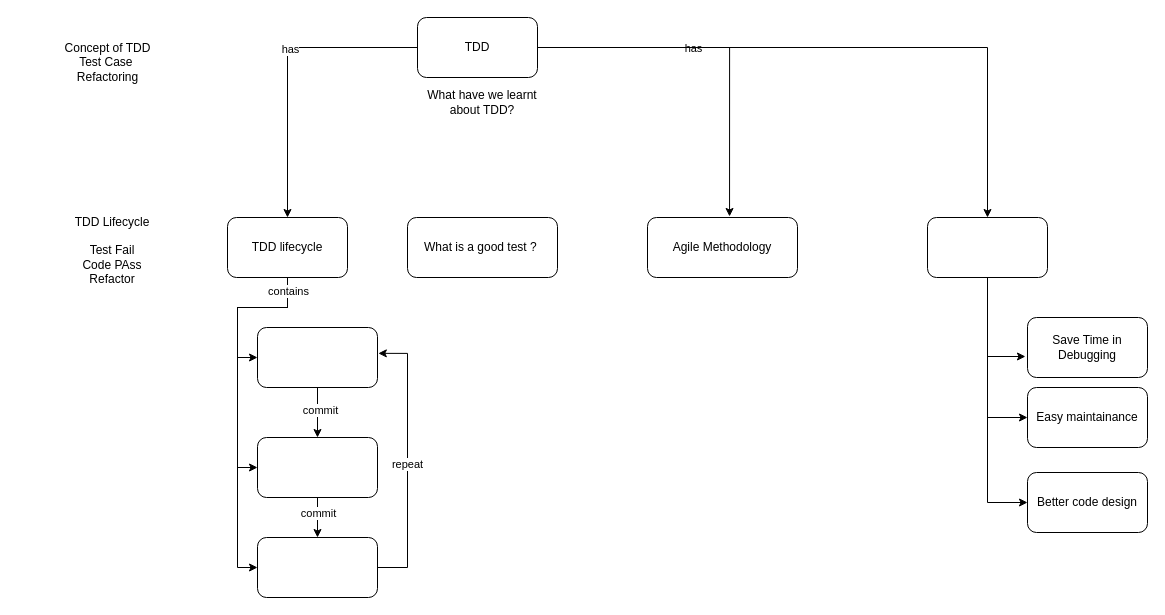
Image size: 1165x615. Some labels were removed from this diagram. The centre of each missing label's shape, as x and y in pixels:
1. Write a test case 2. Run test, update test until get failure: the point at 317,357
3. Write implementation 4. Run test, update code until passed: the point at 317,467
5. Refactor: the point at 317,567
Advantage: the point at 987,247
